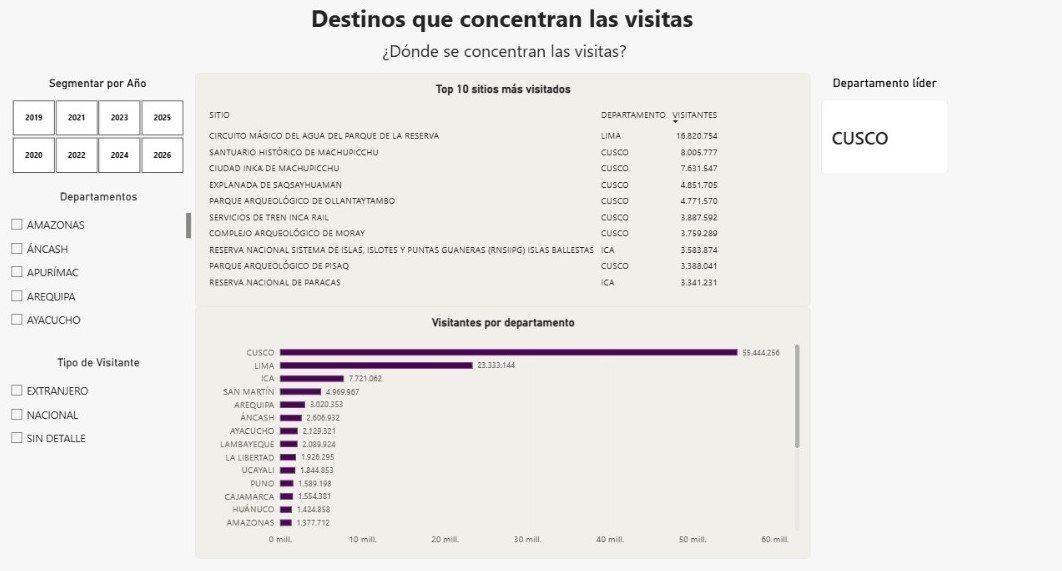

The dashboard page shown, as its layout file describes it:
{"tool":"powerbi","page":{"name":"Destinos","canvas":[1920,1080],"ordinal":1},"visuals":[{"type":"clusteredBarChart","title":"Visitantes por departamento","fields":{"Category":["dim_sitio.DEPARTAMENTO"],"Y":["Sum(Visitantes_sitios_turisticos.NUMERO_VISITANTES)"]},"box":[333.3,508.3,983.3,403.3],"z":0},{"type":"tableEx","title":"Top 10 sitios más visitados","fields":{"Values":["dim_sitio.SITIO_TURISTICO","Visitantes_sitios_turisticos.DEPARTAMENTO","Sum(Visitantes_sitios_turisticos.NUMERO_VISITANTES)"]},"box":[333.3,135,983.3,373.3],"z":1000},{"type":"cardVisual","title":"Departamento líder","fields":{"Data":["Min(dim_sitio.DEPARTAMENTO)"]},"box":[1333.3,140,203.3,156.7],"z":2000},{"type":"textbox","box":[518.3,21.7,611.7,58.3],"z":3000},{"type":"slicer","title":"Segmentar por Año","fields":{"Values":["dim_fecha.Año"]},"box":[21.7,140,311.7,156.7],"z":4000},{"type":"textbox","box":[631.7,80,466.7,61.7],"z":5000},{"type":"slicer","title":"Departamentos","fields":{"Values":["dim_sitio.DEPARTAMENTO"]},"box":[31.7,321.7,295,235],"z":6000},{"type":"slicer","title":"Tipo de Visitante","fields":{"Values":["Visitantes_sitios_turisticos.TIPO_VISITANTE"]},"box":[31.7,586.7,295,153.3],"z":7000}]}

Visuals, with their boxes on the page's 1920x1080 design canvas (x1, y1, x2, y2). These are canvas units, not pixel positions in the 1062x571 screenshot, which may show the page scaled, cropped or inside an application window:
"Visitantes por departamento" clusteredBarChart: 333 508 1317 912
"Top 10 sitios más visitados" tableEx: 333 135 1317 508
"Departamento líder" cardVisual: 1333 140 1537 297
textbox: 518 22 1130 80
"Segmentar por Año" slicer: 22 140 333 297
textbox: 632 80 1098 142
"Departamentos" slicer: 32 322 327 557
"Tipo de Visitante" slicer: 32 587 327 740
